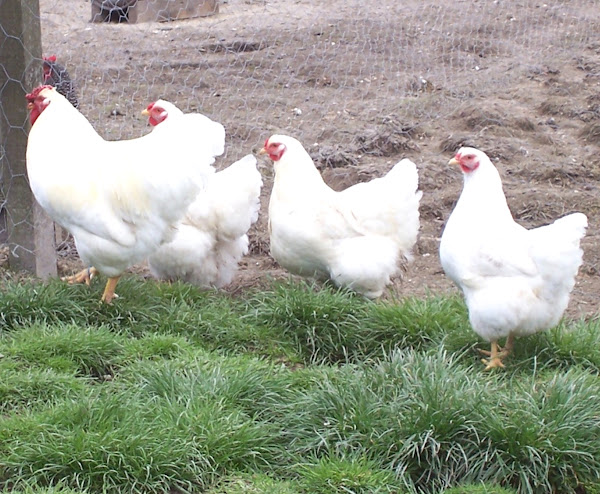Healthy: (17, 77, 233, 317), (432, 137, 592, 384), (258, 124, 427, 315)
